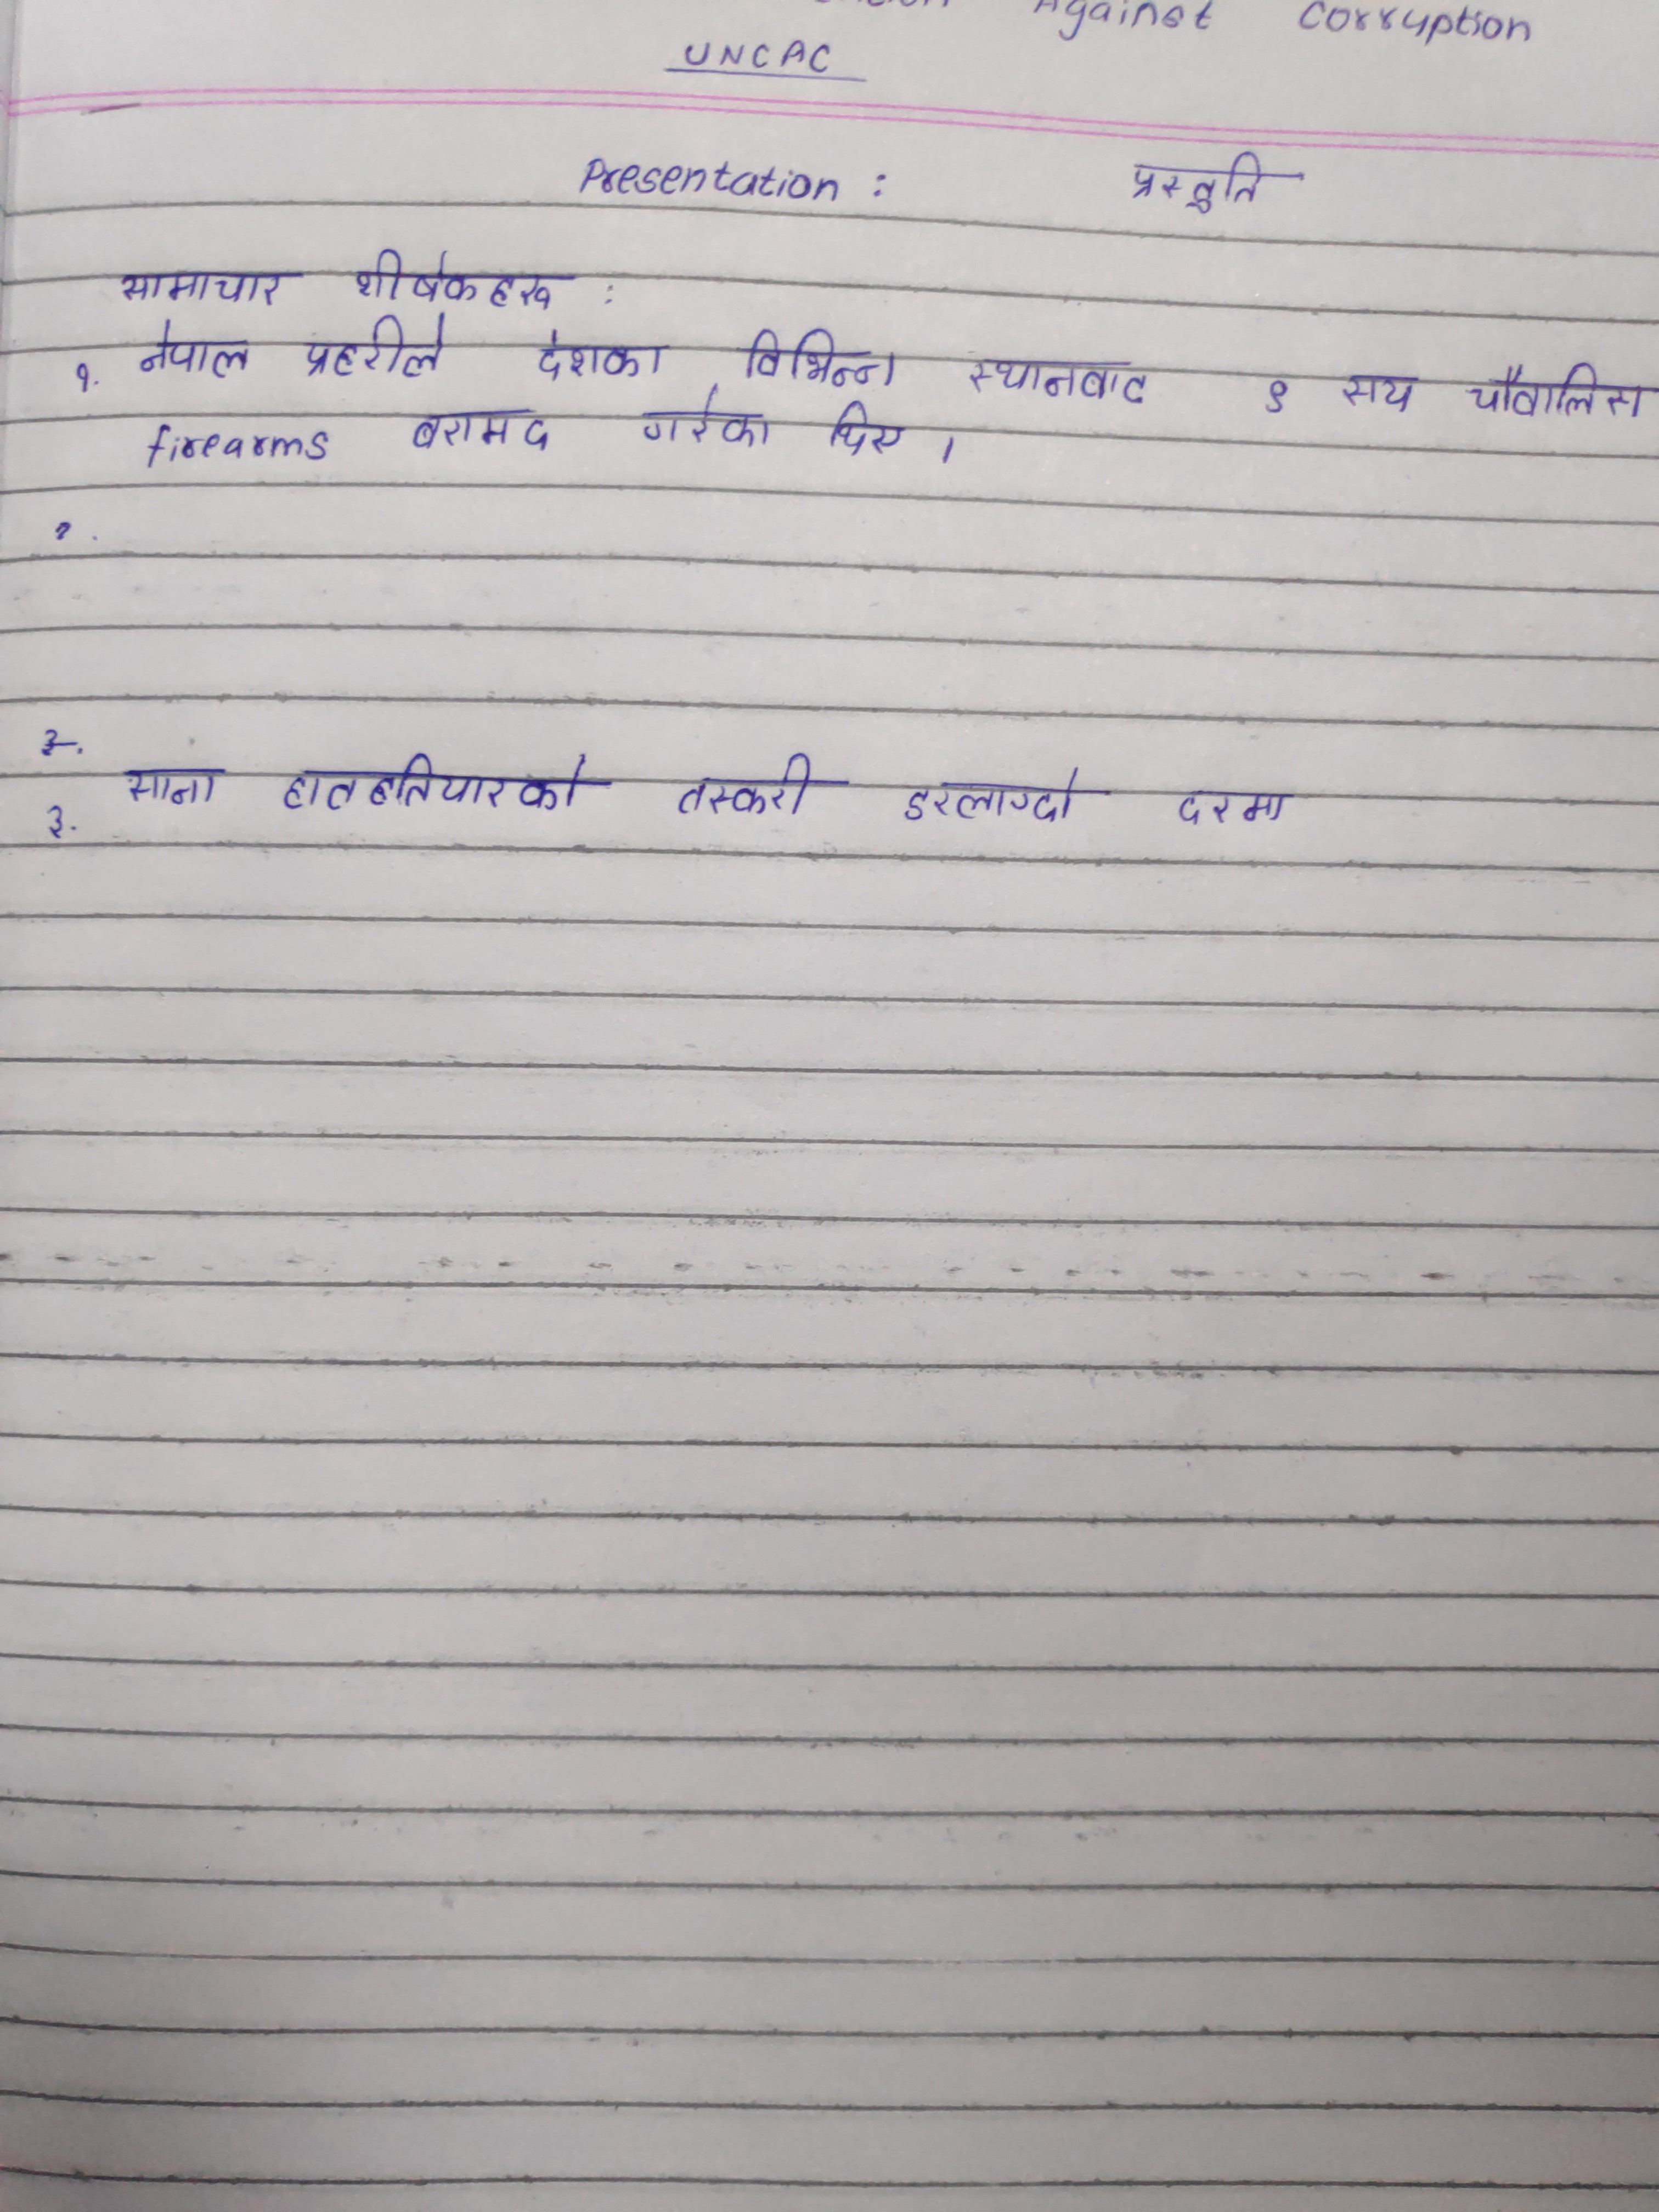text: (277, 747, 591, 824), (350, 244, 558, 310), (897, 761, 1080, 836), (1459, 361, 1656, 423), (671, 749, 814, 831), (744, 326, 904, 395), (964, 355, 1152, 415), (1121, 146, 1263, 221), (301, 312, 444, 385), (636, 385, 772, 455), (530, 324, 673, 387), (127, 314, 251, 381), (113, 263, 295, 308), (406, 402, 549, 458), (823, 395, 915, 469), (1175, 779, 1288, 836), (120, 761, 225, 808), (1337, 369, 1419, 416), (1262, 371, 1295, 423)
